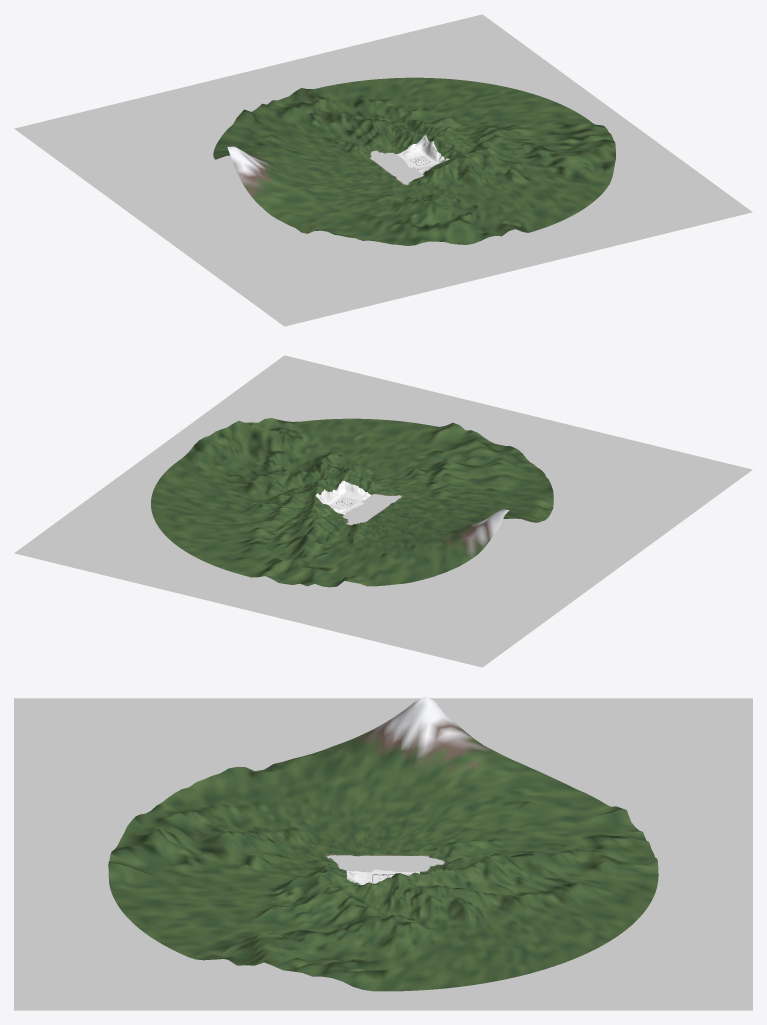
Rendered from map.glb.
The picture shows the model from 3 angles, top to bottom: view 1: azimuth 30°, elevation 25°; view 2: azimuth 150°, elevation 25°; view 3: azimuth 270°, elevation 25°; orthographic projection. The views are drawn at different scales.
Parts seen in each view (by area): view 1: Lake, Far_1, Far_3, Far_0, Far_5, Far_2, Far_7, Far_6, Far_4; view 2: Lake, Far_0, Far_6, Far_2, Far_5, Far_7, Far_1, Far_4, Far_3; view 3: Lake, Far_4, Far_3, Far_7, Far_6, Far_2, Far_1, Far_5, Far_0.
Part boxes in pixels (x1,y1,x2,y2): Lake: [14, 14, 752, 326]; Far_1: [428, 157, 608, 232]; Far_3: [240, 170, 401, 240]; Far_0: [438, 120, 615, 184]; Far_5: [220, 88, 400, 157]; Far_2: [363, 169, 514, 245]; Far_7: [424, 80, 588, 150]; Far_6: [314, 77, 466, 152]; Far_4: [213, 137, 384, 181]; Lake: [14, 355, 752, 667]; Far_0: [178, 418, 342, 491]; Far_6: [158, 496, 338, 577]; Far_2: [366, 423, 546, 498]; Far_5: [252, 513, 403, 587]; Far_7: [151, 461, 328, 525]; Far_1: [300, 418, 451, 491]; Far_4: [365, 509, 509, 583]; Far_3: [382, 477, 553, 522]; Lake: [14, 698, 752, 1010]; Far_4: [383, 696, 577, 856]; Far_3: [189, 724, 383, 856]; Far_7: [383, 872, 577, 991]; Far_6: [420, 857, 658, 957]; Far_2: [108, 787, 346, 875]; Far_1: [108, 864, 347, 957]; Far_5: [420, 790, 658, 875]; Far_0: [189, 879, 383, 991].
Size of the model in its own units: 30000 by 2917 by 30000.
